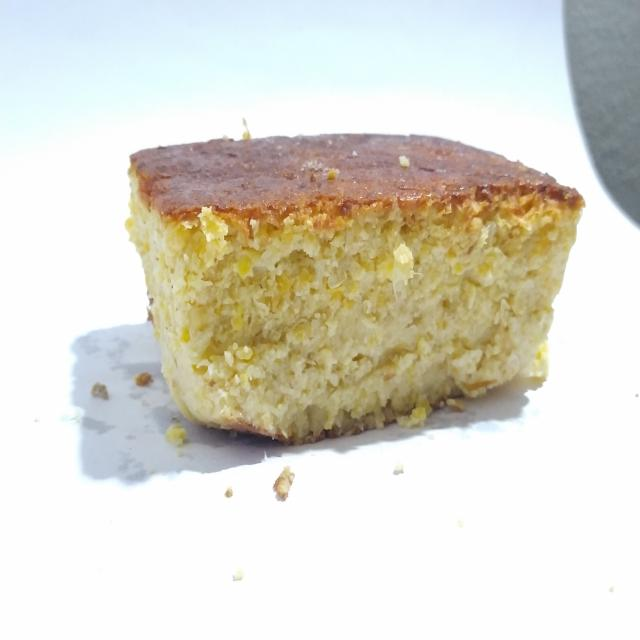Food: (112, 120, 582, 454)
